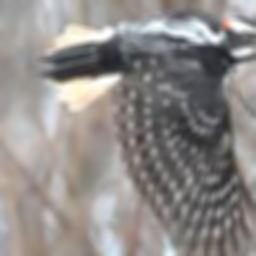Woodpecker: (37, 7, 256, 256)
